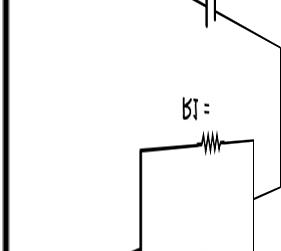resistor: (188, 125, 231, 162)
